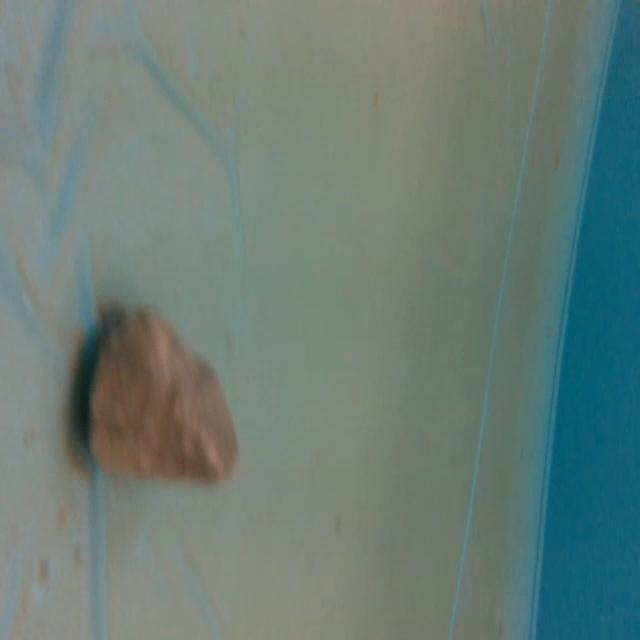rock: (75, 301, 242, 489)
